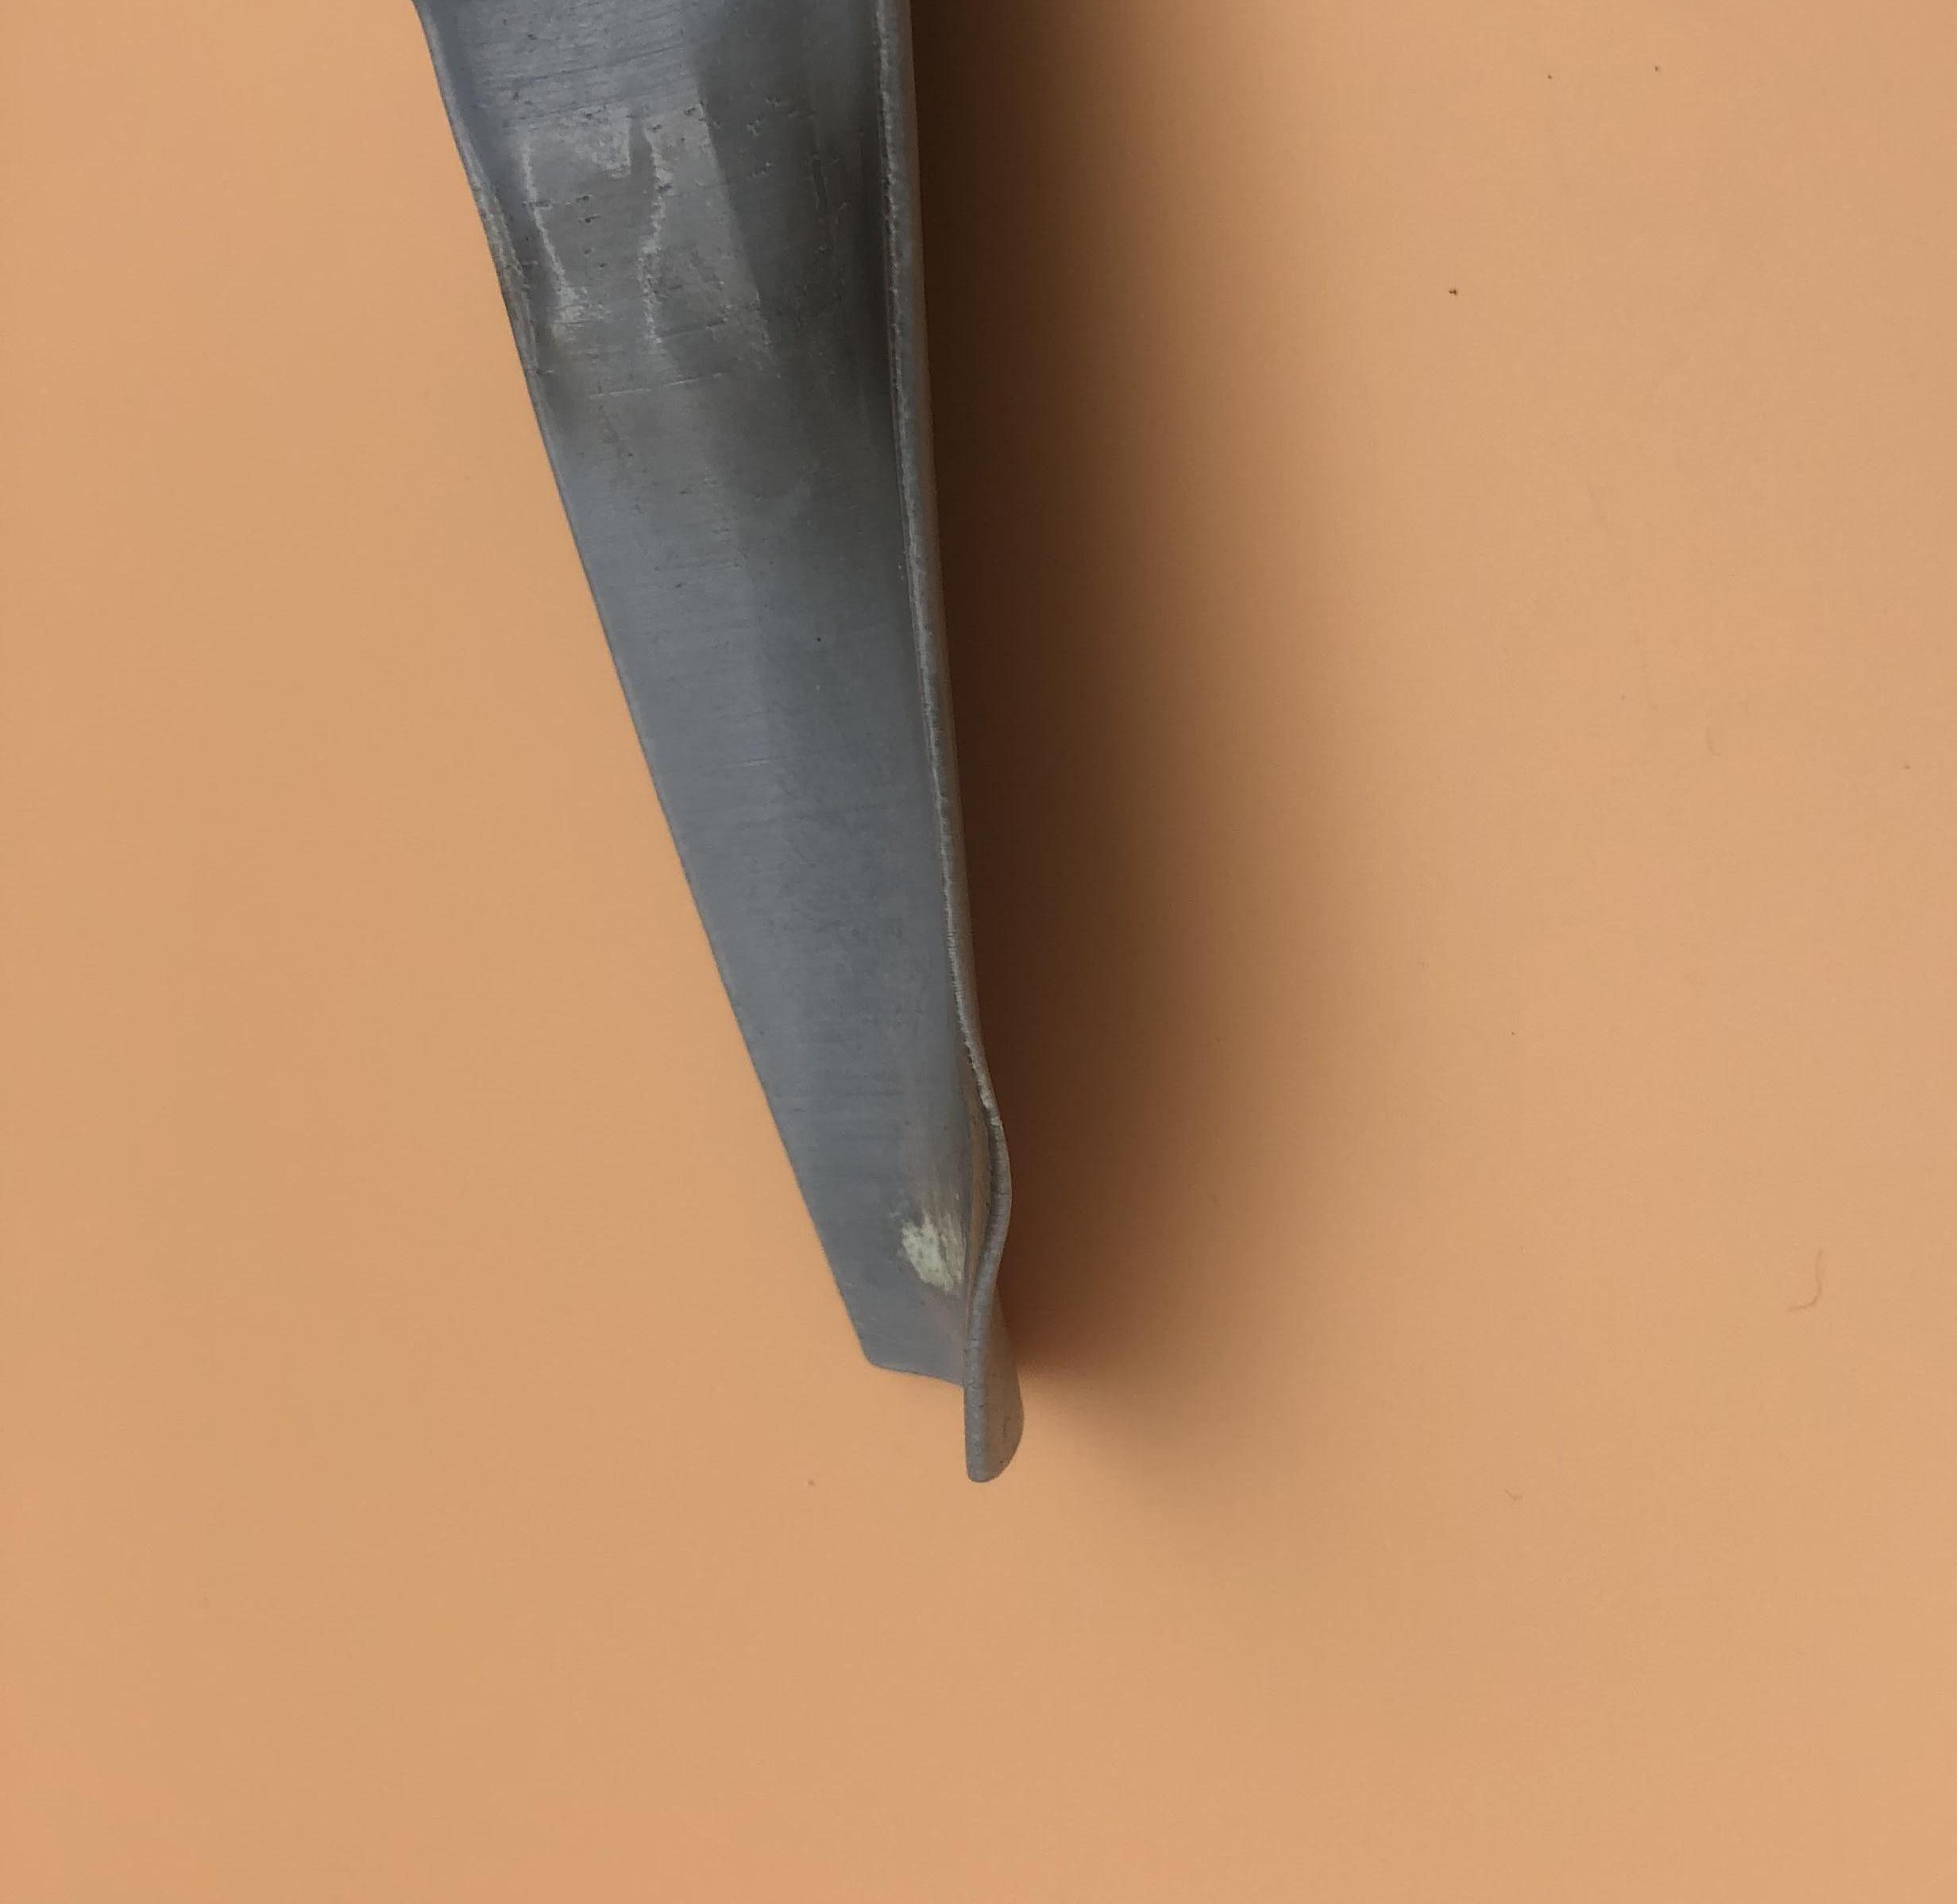ablation: (769, 155, 914, 482), (928, 1149, 999, 1369)
